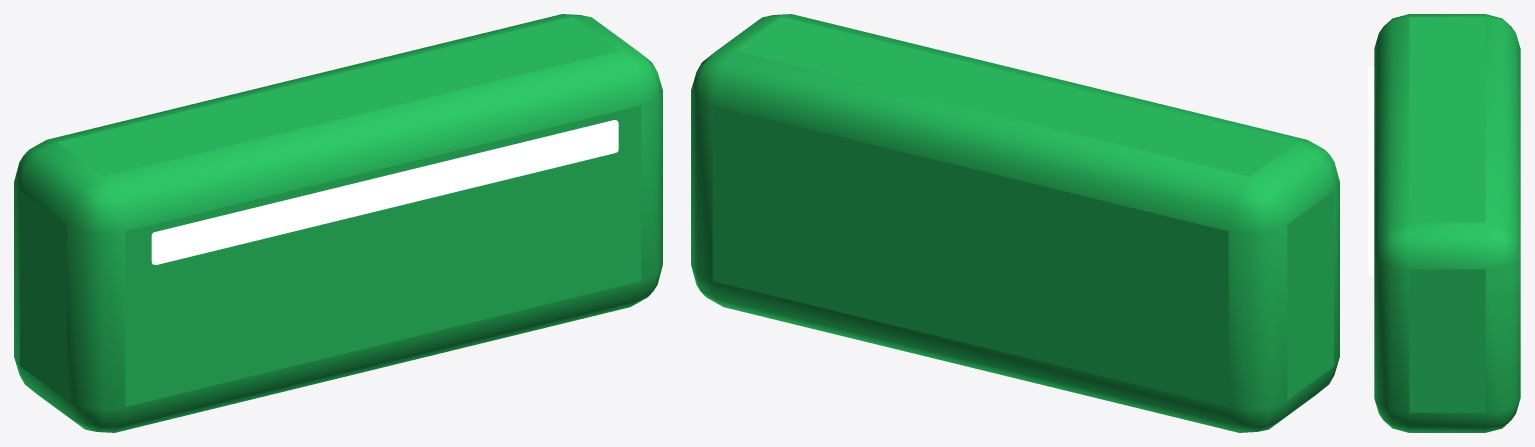
File: cihla_zelena.glb
3 views of the same model, side by side, from view 1: azimuth 30°, elevation 25°; view 2: azimuth 150°, elevation 25°; view 3: azimuth 270°, elevation 25° (orthographic). The views are drawn at different scales.
Visible parts, largest first — view 1: cihla_zelena_m, cihla_zelena_lesk; view 2: cihla_zelena_m; view 3: cihla_zelena_m, cihla_zelena_lesk.
Boxes of the visible parts, x1,y1,x2,y2 form: cihla_zelena_m: (14, 14, 662, 432); cihla_zelena_lesk: (151, 120, 618, 264); cihla_zelena_m: (691, 14, 1339, 432); cihla_zelena_m: (1374, 14, 1520, 432); cihla_zelena_lesk: (1368, 65, 1374, 275).
Size of the model in its own units: 1.9 by 0.78 by 0.52.
